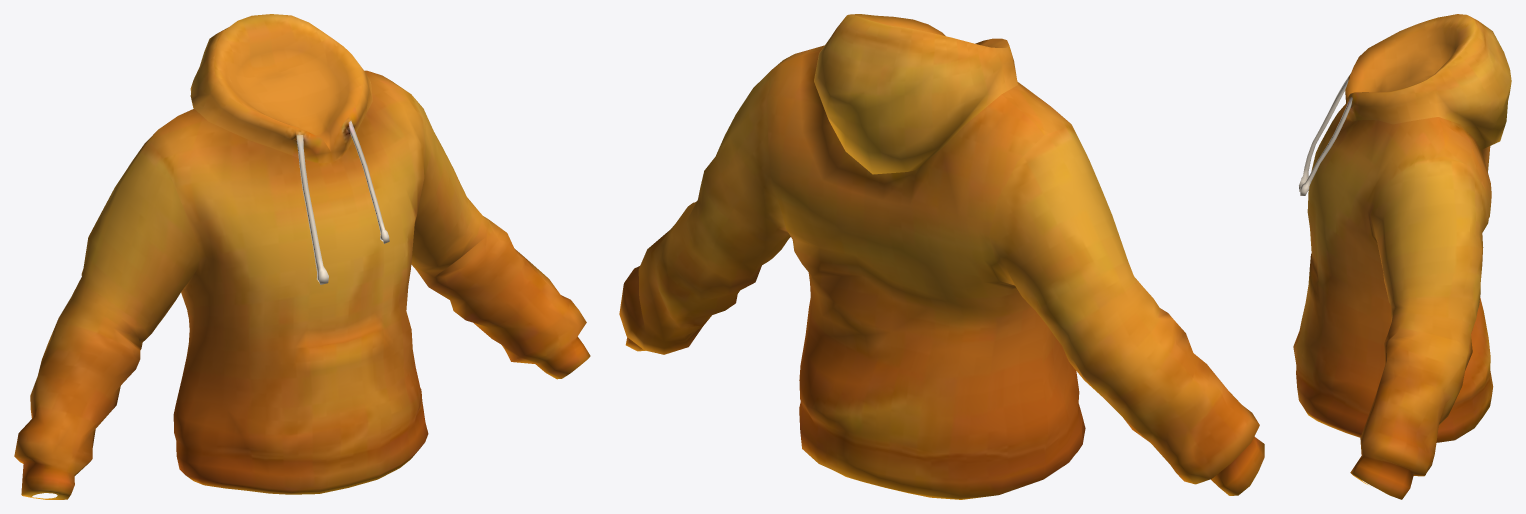
File: body2.glb
3 views of the same model, side by side, from view 1: azimuth 30°, elevation 25°; view 2: azimuth 150°, elevation 25°; view 3: azimuth 270°, elevation 25° (orthographic). The views are drawn at different scales.
Visible parts, largest first — view 1: Wolf3D_Outfit_Top; view 2: Wolf3D_Outfit_Top; view 3: Wolf3D_Outfit_Top.
Part boxes in pixels (x1,y1,x2,y2): Wolf3D_Outfit_Top: (14, 14, 590, 499); Wolf3D_Outfit_Top: (619, 14, 1264, 499); Wolf3D_Outfit_Top: (1293, 14, 1511, 499).
Bounding box in the file's own units: 0.9534 × 0.6793 × 0.3534.
1 material, 1 textured.
